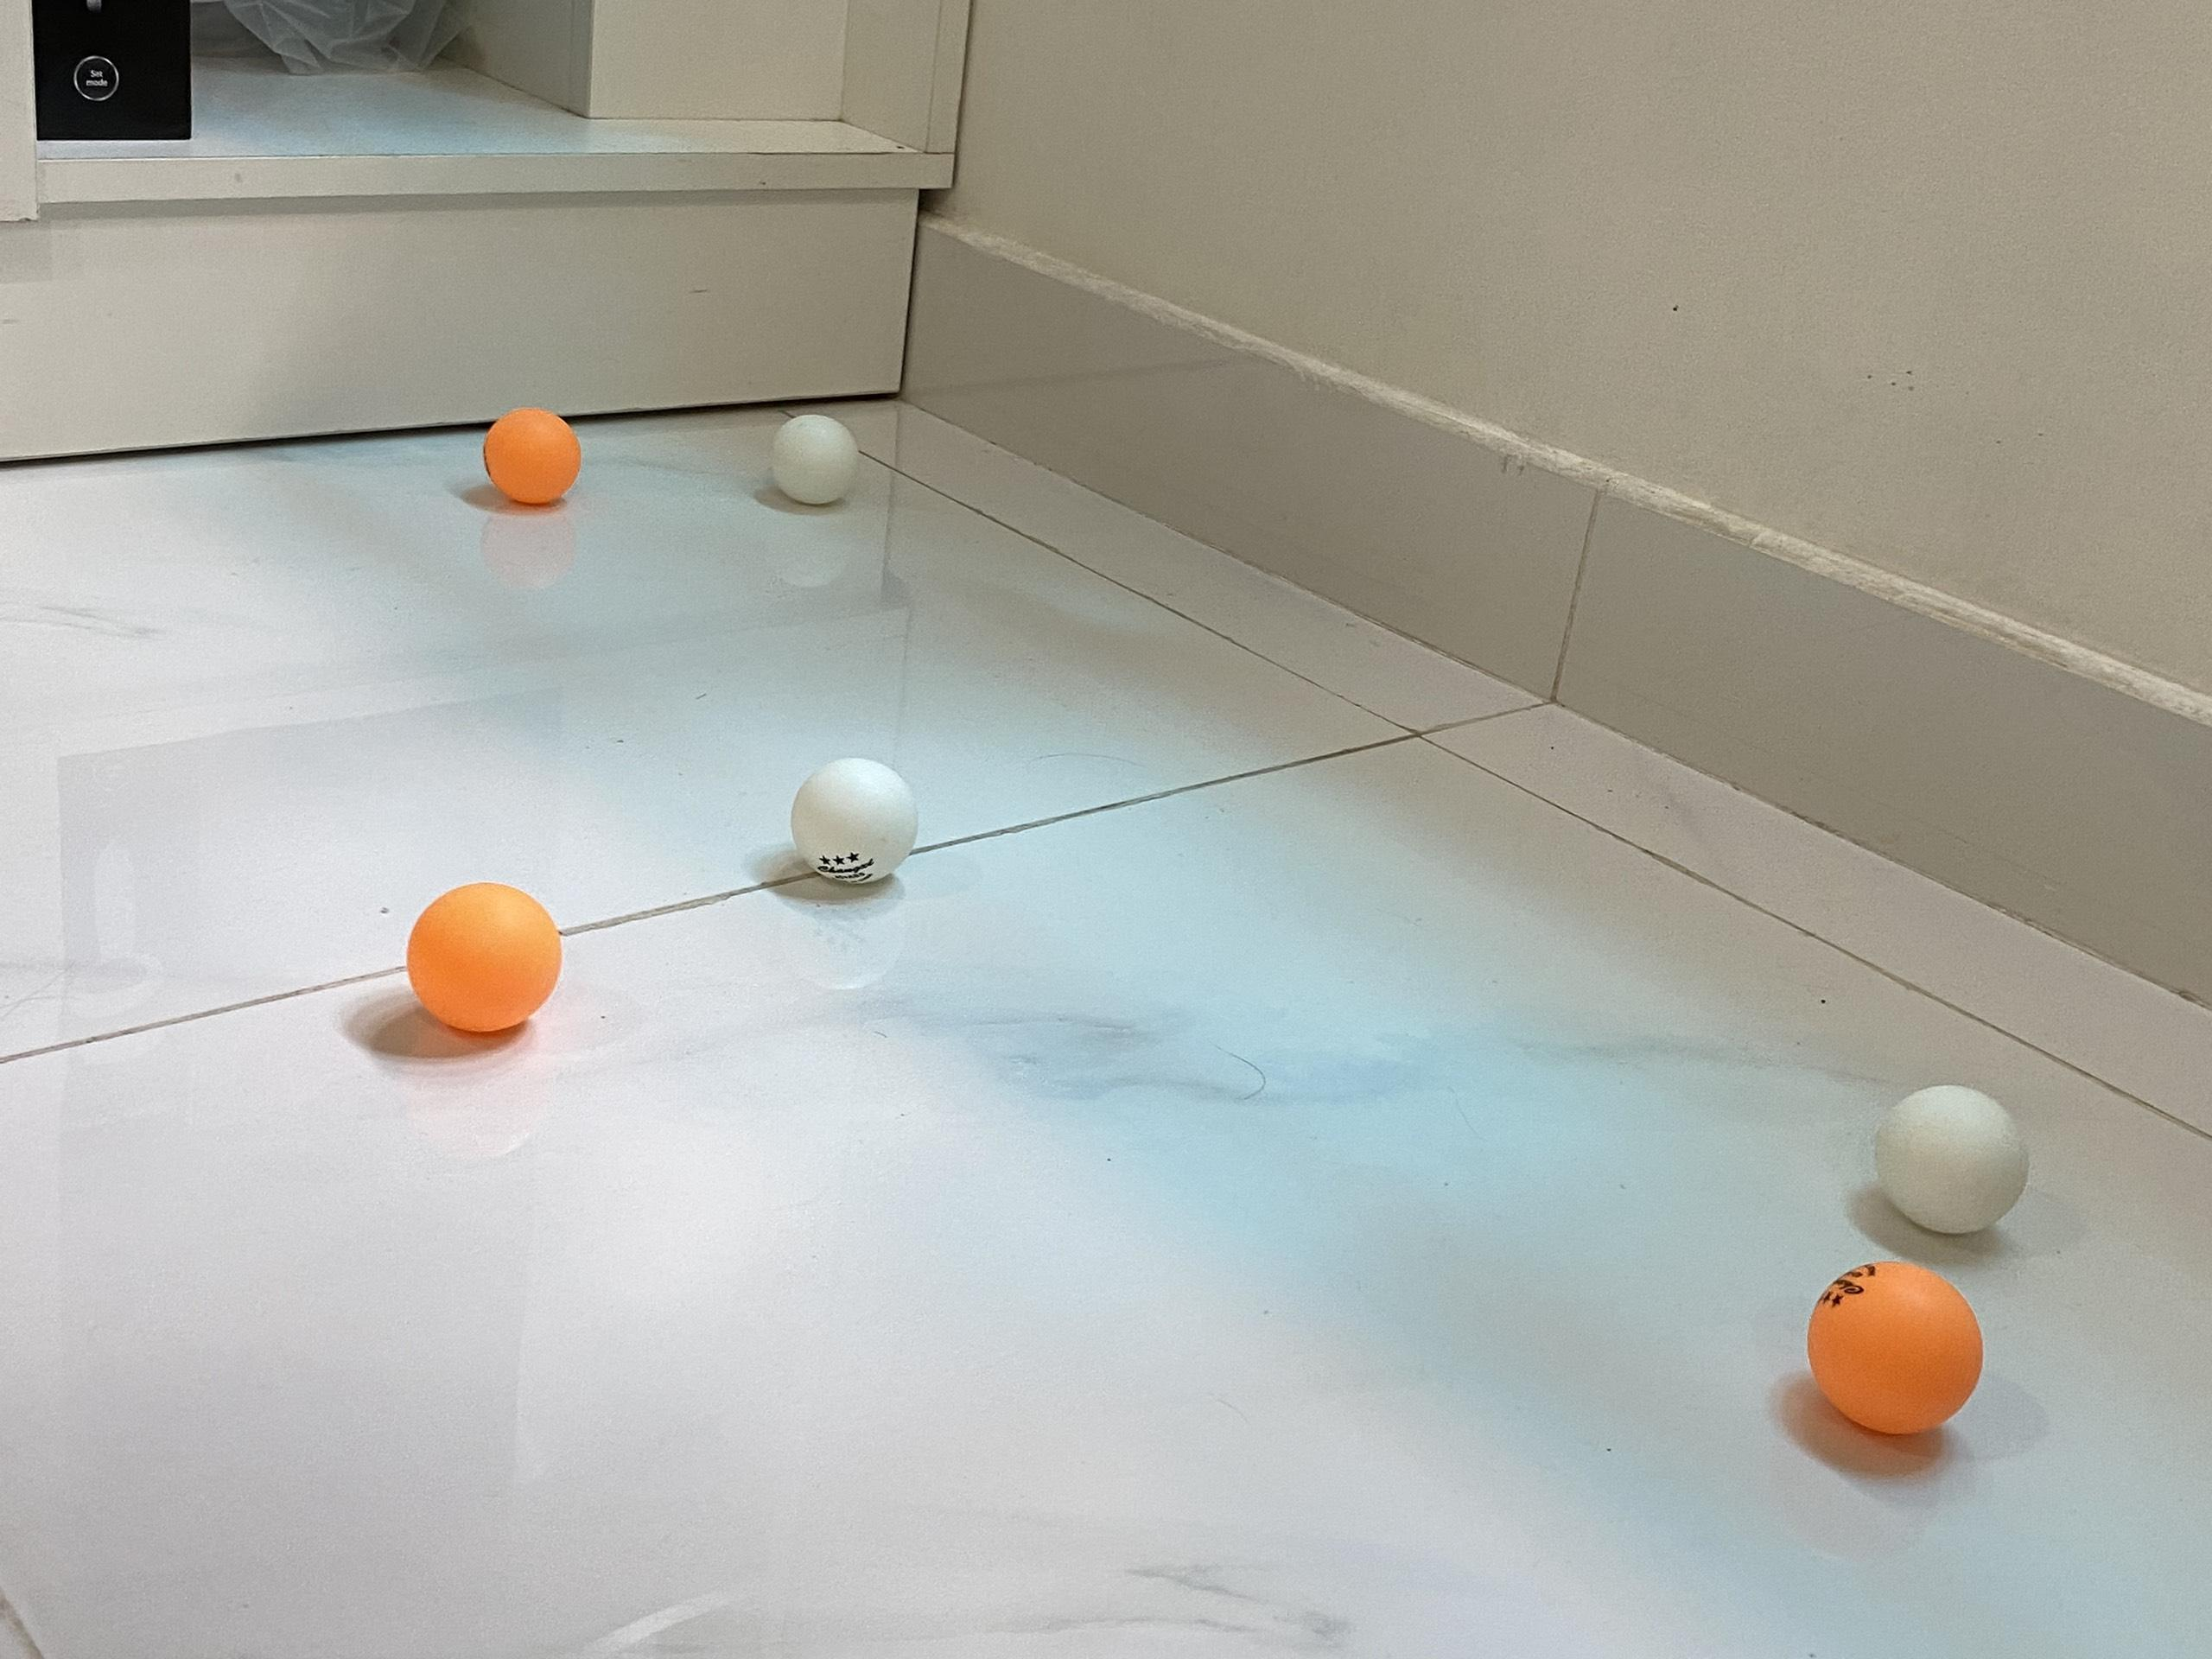oball: (1808, 1262, 1986, 1434), (1872, 1084, 2026, 1236), (408, 880, 561, 1030), (794, 756, 920, 885), (486, 408, 583, 505), (775, 415, 862, 504)
